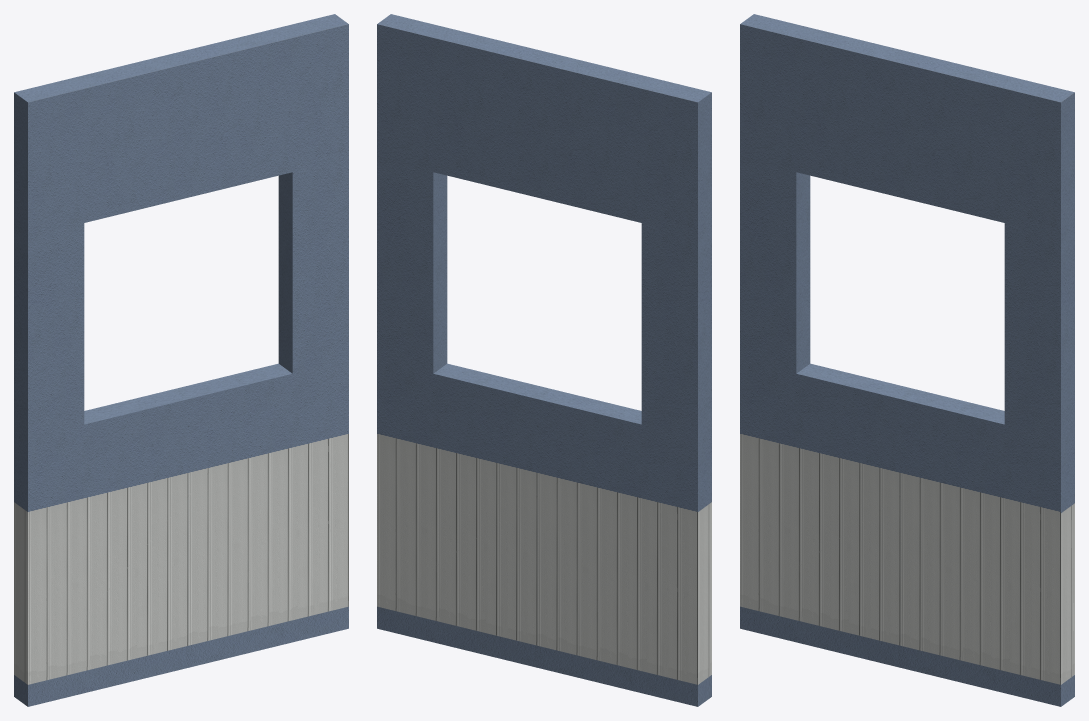
File: ARC0210028.fbx
The picture shows the model from 3 angles, left to right: view 1: azimuth 30°, elevation 25°; view 2: azimuth 150°, elevation 25°; view 3: azimuth 330°, elevation 25°; orthographic projection.
Parts seen in each view (by area): view 1: smARC0210028; view 2: smARC0210028; view 3: smARC0210028.
Part boxes in pixels (x1=…): smARC0210028: x1=14, y1=14, x2=348, y2=706; smARC0210028: x1=377, y1=14, x2=711, y2=706; smARC0210028: x1=740, y1=14, x2=1074, y2=706.
Bounding box in the file's own units: 182 × 328 × 13.67.
Materials: 1 (1 with a texture image).
